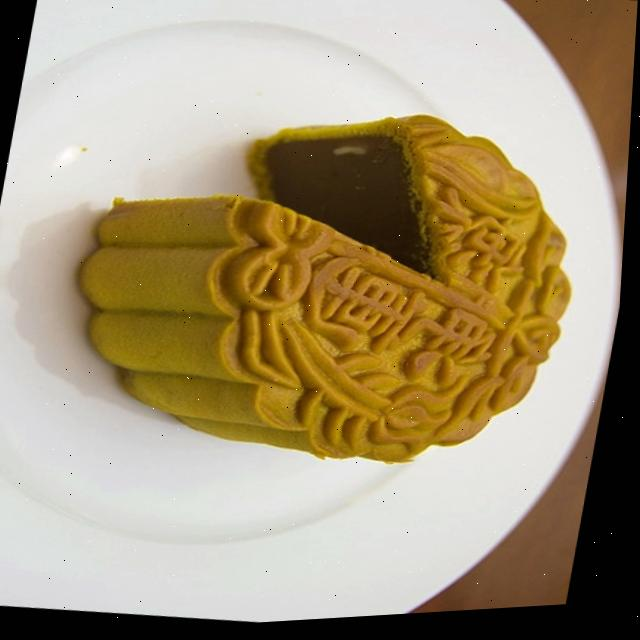蛋糕甜品: (27, 44, 630, 542)
